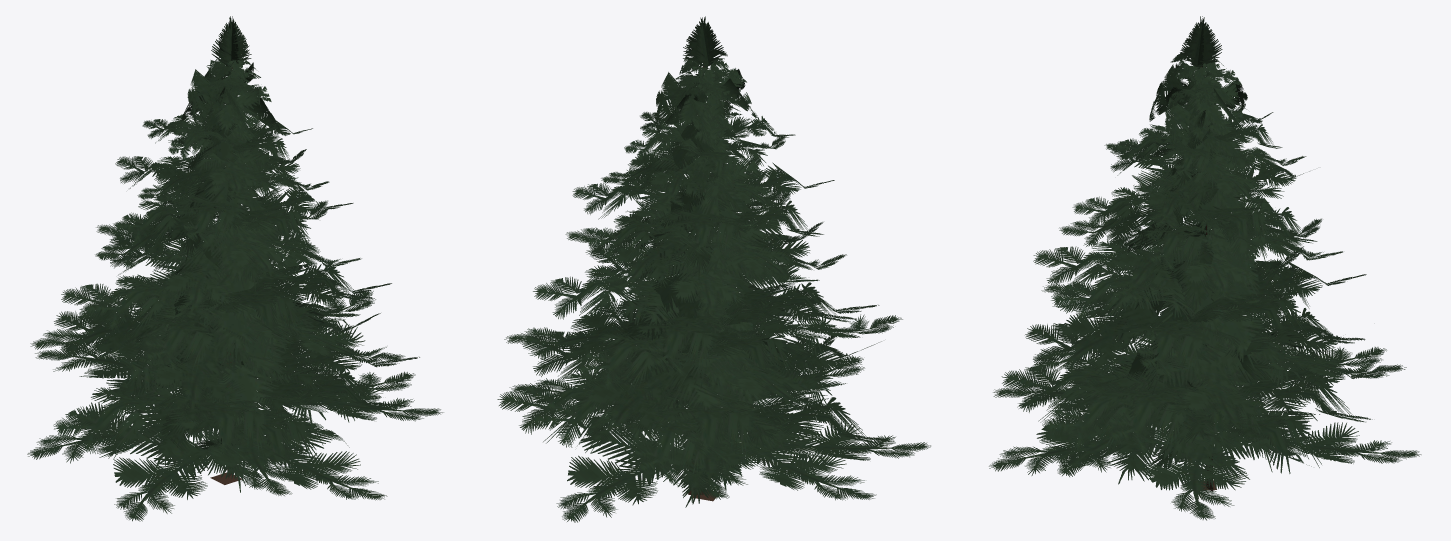
File: arbre_epicea_loin.glb
The picture shows the model from 3 angles, left to right: view 1: azimuth 30°, elevation 25°; view 2: azimuth 150°, elevation 25°; view 3: azimuth 270°, elevation 25°; orthographic projection. The views are drawn at different scales.
Parts seen in each view (by area): view 1: arbre_epicea_loin; view 2: arbre_epicea_loin; view 3: arbre_epicea_loin.
Part boxes in pixels (bbox=[...]): arbre_epicea_loin: bbox=[27, 16, 443, 521]; arbre_epicea_loin: bbox=[497, 16, 930, 522]; arbre_epicea_loin: bbox=[989, 16, 1421, 520].
Bounding box in the file's own units: 10.77 × 12.1 × 10.68.
Materials: 2 (1 with a texture image).
